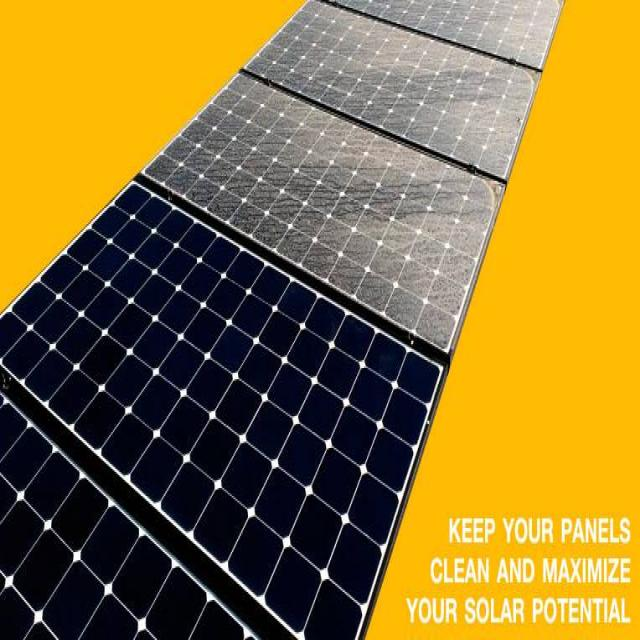clean-solar-panel: (1, 177, 442, 637)
dust-solar-panel: (145, 2, 559, 361)
